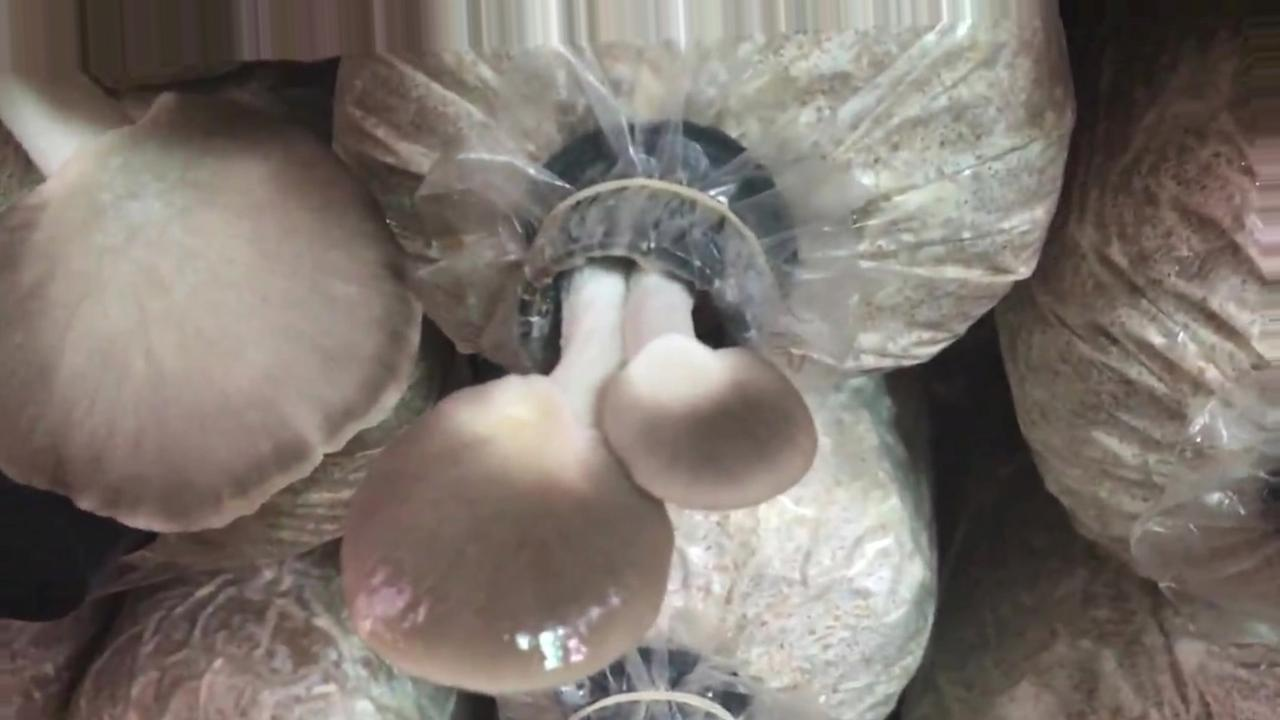nam: (341, 177, 820, 695), (1, 1, 428, 542)
